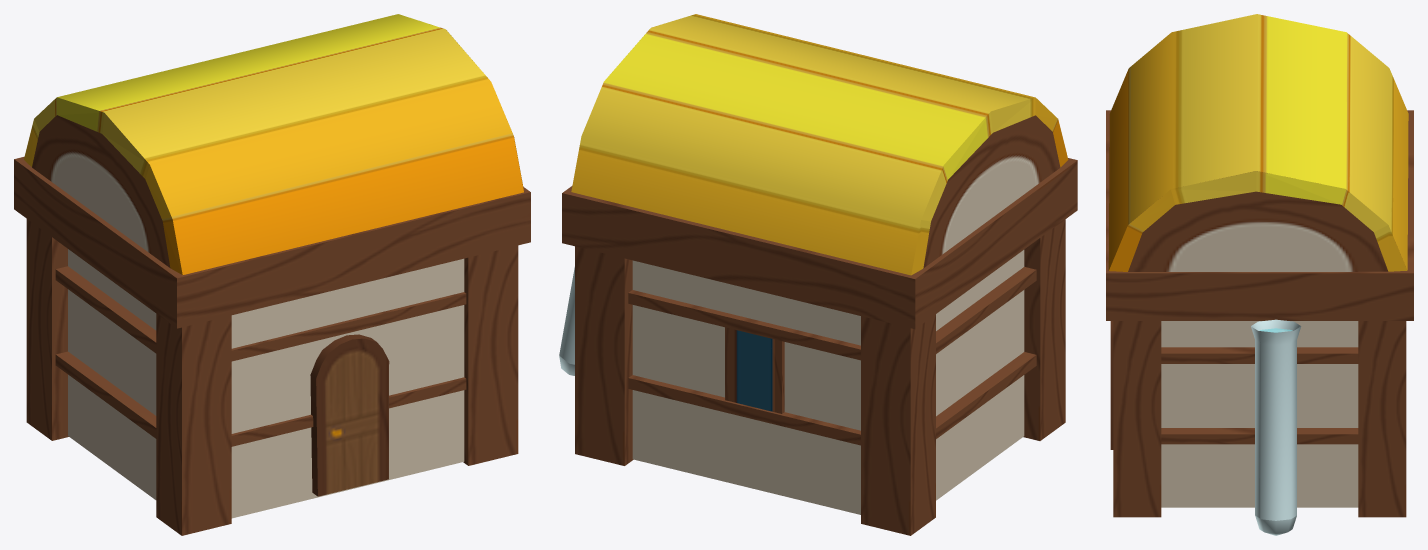
Rendered from building_potion_lv1.FBX.
The picture shows the model from 3 angles, left to right: view 1: azimuth 30°, elevation 25°; view 2: azimuth 150°, elevation 25°; view 3: azimuth 270°, elevation 25°; orthographic projection. The views are drawn at different scales.
Visible parts, largest first — view 1: building_potion_roof_lv1, building_potion_lv1; view 2: building_potion_roof_lv1, building_potion_lv1, building_potion_bottleout_lv1; view 3: building_potion_roof_lv1, building_potion_lv1, building_potion_bottleout_lv1.
Boxes of the visible parts, x1,y1,x2,y2 form: building_potion_roof_lv1: [24, 14, 524, 518]; building_potion_lv1: [14, 156, 530, 535]; building_potion_roof_lv1: [571, 14, 1068, 514]; building_potion_lv1: [562, 158, 1077, 535]; building_potion_bottleout_lv1: [559, 267, 574, 375]; building_potion_roof_lv1: [1108, 14, 1408, 507]; building_potion_lv1: [1106, 110, 1413, 517]; building_potion_bottleout_lv1: [1251, 319, 1301, 535].
Size of the model in its own units: 330 by 271 by 218.
